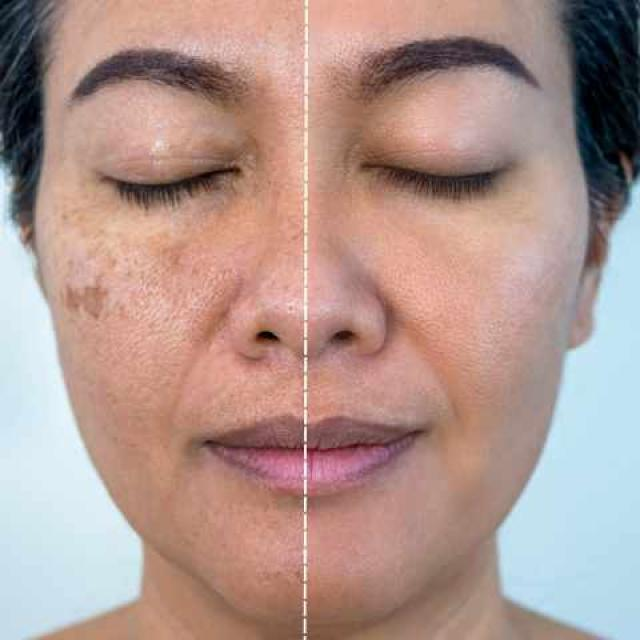pigmentation: (49, 261, 118, 333)
